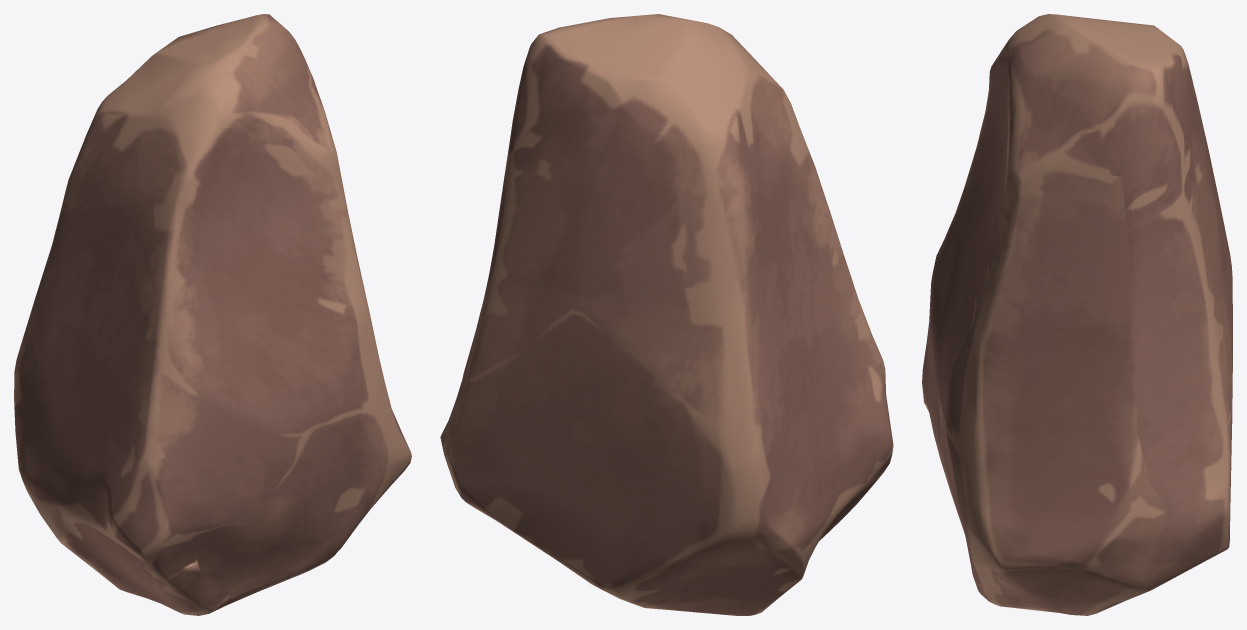
File: Rock_B.FBX
3 views of the same model, side by side, from view 1: azimuth 30°, elevation 25°; view 2: azimuth 150°, elevation 25°; view 3: azimuth 270°, elevation 25° (orthographic). The views are drawn at different scales.
Parts seen in each view (by area): view 1: Rock_B; view 2: Rock_B; view 3: Rock_B.
Boxes of the visible parts, <box> form: Rock_B: <box>14,14,411,615</box>; Rock_B: <box>440,14,893,615</box>; Rock_B: <box>922,14,1232,615</box>.
Bounding box in the file's own units: 56.86 × 86.65 × 41.82.
